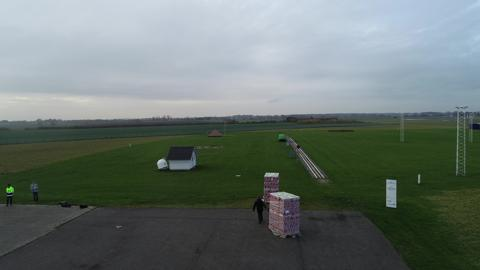RockwoolPallet: (264, 170, 282, 200)
